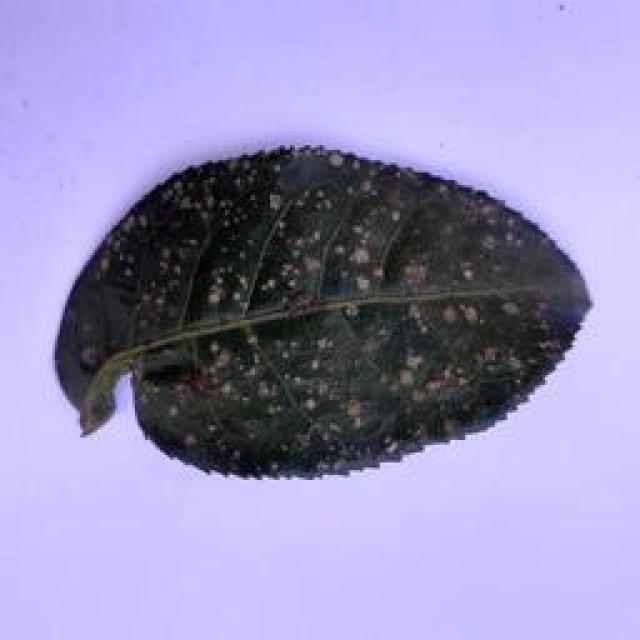Algal Leaf Spot: (51, 145, 599, 497)
